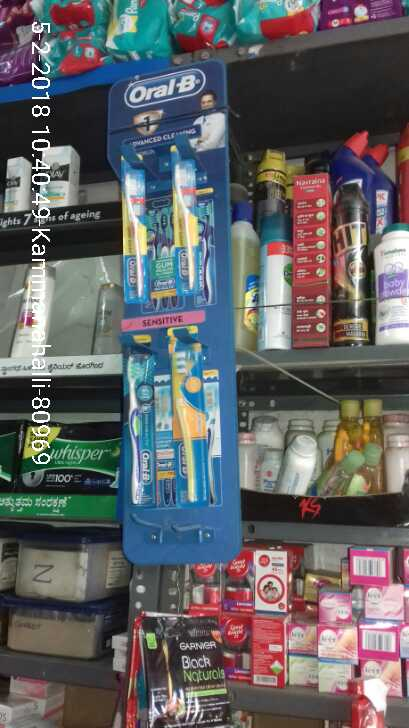beauty: (39, 141, 79, 219), (1, 159, 33, 219)
pharmacy: (22, 412, 122, 496), (165, 348, 211, 513), (111, 161, 153, 307), (165, 166, 207, 296), (121, 354, 153, 503)
